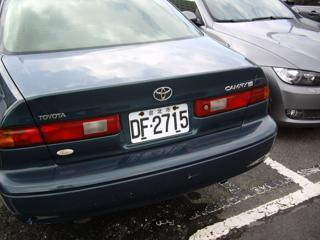plate: (126, 109, 191, 139)
